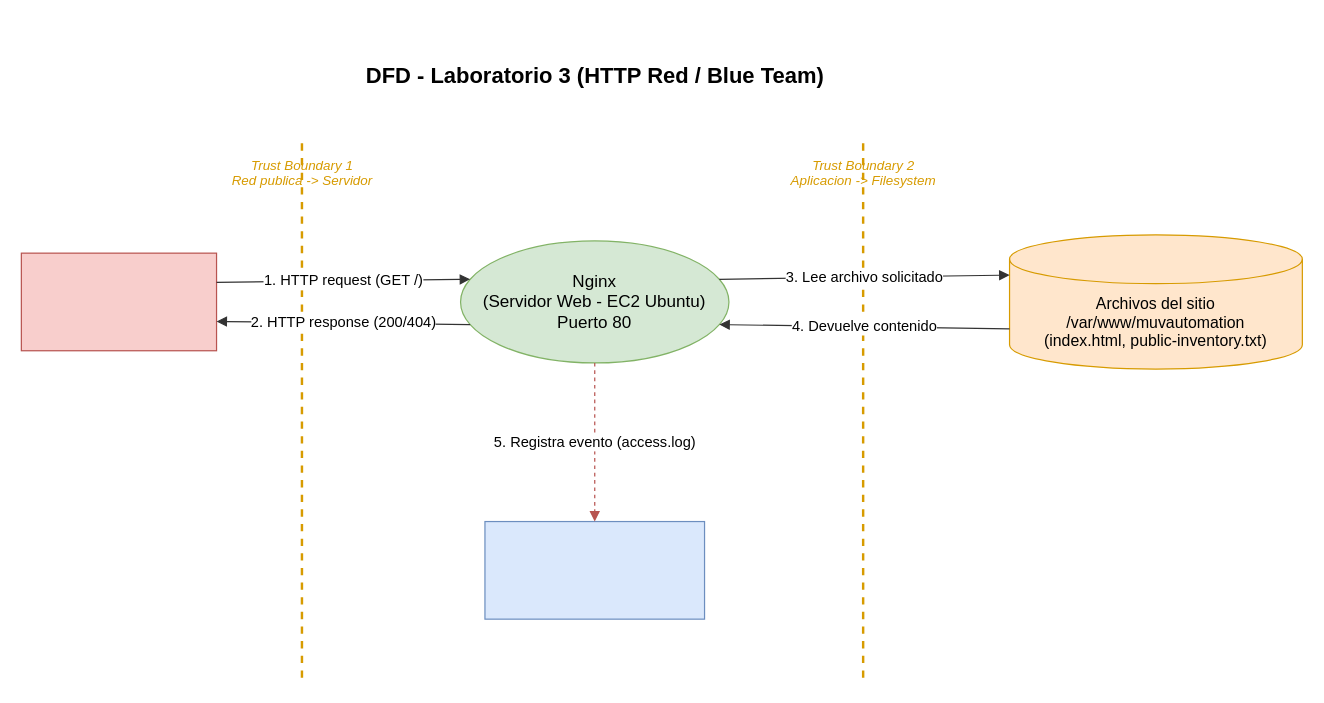
The diagram is 1324 pixels wide and 703 high, and some of its shapes have lost their labels. The shapes that lost their labels are listed below. From the top down, each one's box as (x1, y1, x2, y2) in pixels, then its label:
(20, 252, 217, 351): Usuario / Kali (Red Team)
(484, 520, 705, 619): Blue Team (Logs / Deteccion) access.log, error.log
